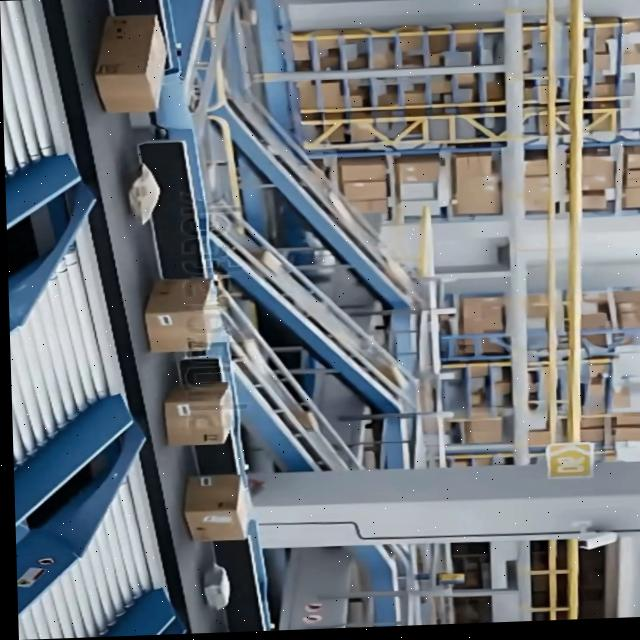product 1: (142, 276, 224, 353), (182, 472, 252, 542), (163, 381, 236, 446)
product 2: (124, 162, 162, 224)
